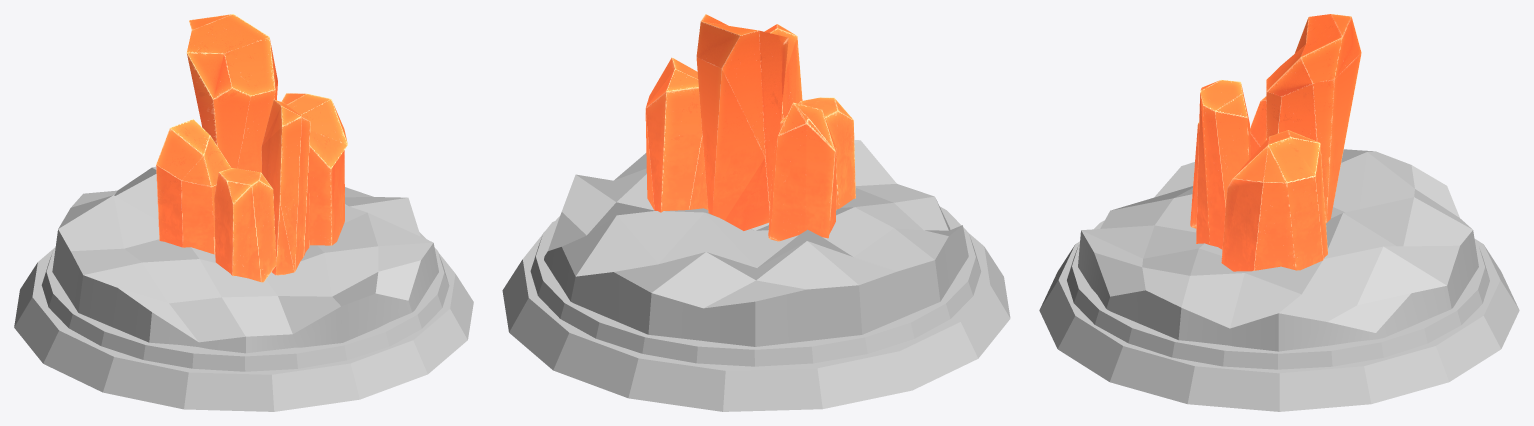
3 renders of one model, left to right at view 1: azimuth 30°, elevation 25°; view 2: azimuth 150°, elevation 25°; view 3: azimuth 270°, elevation 25°, orthographic. The views are drawn at different scales.
Parts seen in each view (by area): view 1: 8_zemin, 8_1; view 2: 8_zemin, 8_1; view 3: 8_zemin, 8_1.
Part boxes in pixels (x1,y1,x2,y2): 8_zemin: (14, 166, 473, 411); 8_1: (156, 14, 347, 282); 8_zemin: (502, 139, 1010, 411); 8_1: (645, 14, 855, 241); 8_zemin: (1039, 149, 1519, 411); 8_1: (1190, 14, 1361, 271).
Size of the model in its own units: 1036 by 675 by 1036.
